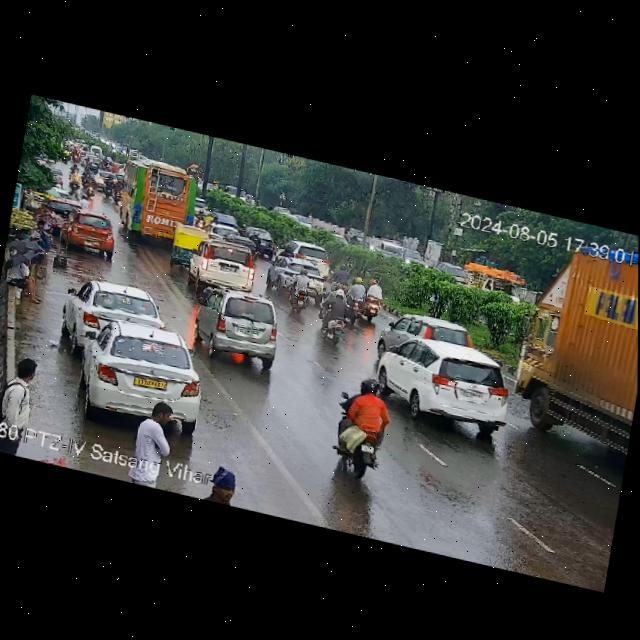bus: (114, 156, 196, 246)
car: (62, 312, 206, 434), (368, 327, 519, 439), (192, 283, 287, 369), (62, 272, 164, 350), (378, 308, 475, 363), (185, 233, 259, 296), (59, 208, 119, 257), (170, 224, 199, 270), (289, 239, 334, 267), (266, 250, 294, 292), (202, 221, 245, 245), (258, 229, 279, 261), (51, 196, 83, 214), (226, 234, 257, 250), (80, 150, 100, 171), (216, 212, 240, 227), (93, 166, 106, 189)
motorcycle: (331, 372, 394, 486), (343, 273, 387, 325), (315, 286, 348, 347), (88, 165, 124, 207), (288, 269, 316, 314), (66, 161, 98, 197), (103, 175, 124, 202), (196, 209, 217, 230), (60, 147, 78, 161), (101, 155, 114, 169), (249, 230, 259, 245), (239, 224, 250, 237)
person: (134, 397, 181, 468), (3, 352, 42, 431), (0, 252, 51, 307), (208, 465, 252, 510), (26, 218, 55, 275), (36, 202, 57, 223), (78, 192, 92, 211)
truck: (509, 228, 639, 428), (466, 261, 526, 299), (307, 216, 348, 242)
